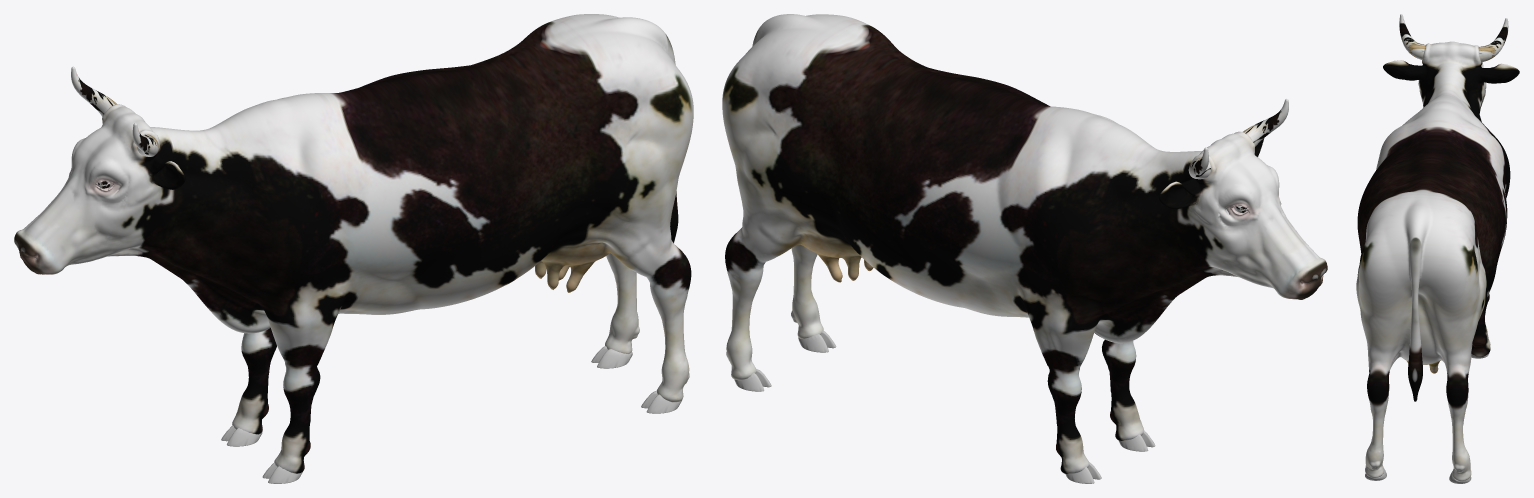
Rendered from cow.glb.
The picture shows the model from 3 angles, left to right: view 1: azimuth 30°, elevation 25°; view 2: azimuth 150°, elevation 25°; view 3: azimuth 270°, elevation 25°; orthographic projection. The views are drawn at different scales.
Visible parts, largest first — view 1: COWBODY, COWCUER; view 2: COWBODY, COWCUER; view 3: COWBODY, COWCUER.
Part boxes in pixels (box(x1,y1,x2,y2)): COWBODY: box(14, 14, 693, 473); COWCUER: box(71, 66, 158, 156); COWBODY: box(722, 14, 1327, 473); COWCUER: box(1188, 99, 1288, 179); COWBODY: box(1356, 41, 1519, 481); COWCUER: box(1399, 14, 1508, 62).
Size of the model in its own units: 0.3981 by 0.2395 by 0.125.
Materials: 1 (1 with a texture image).
